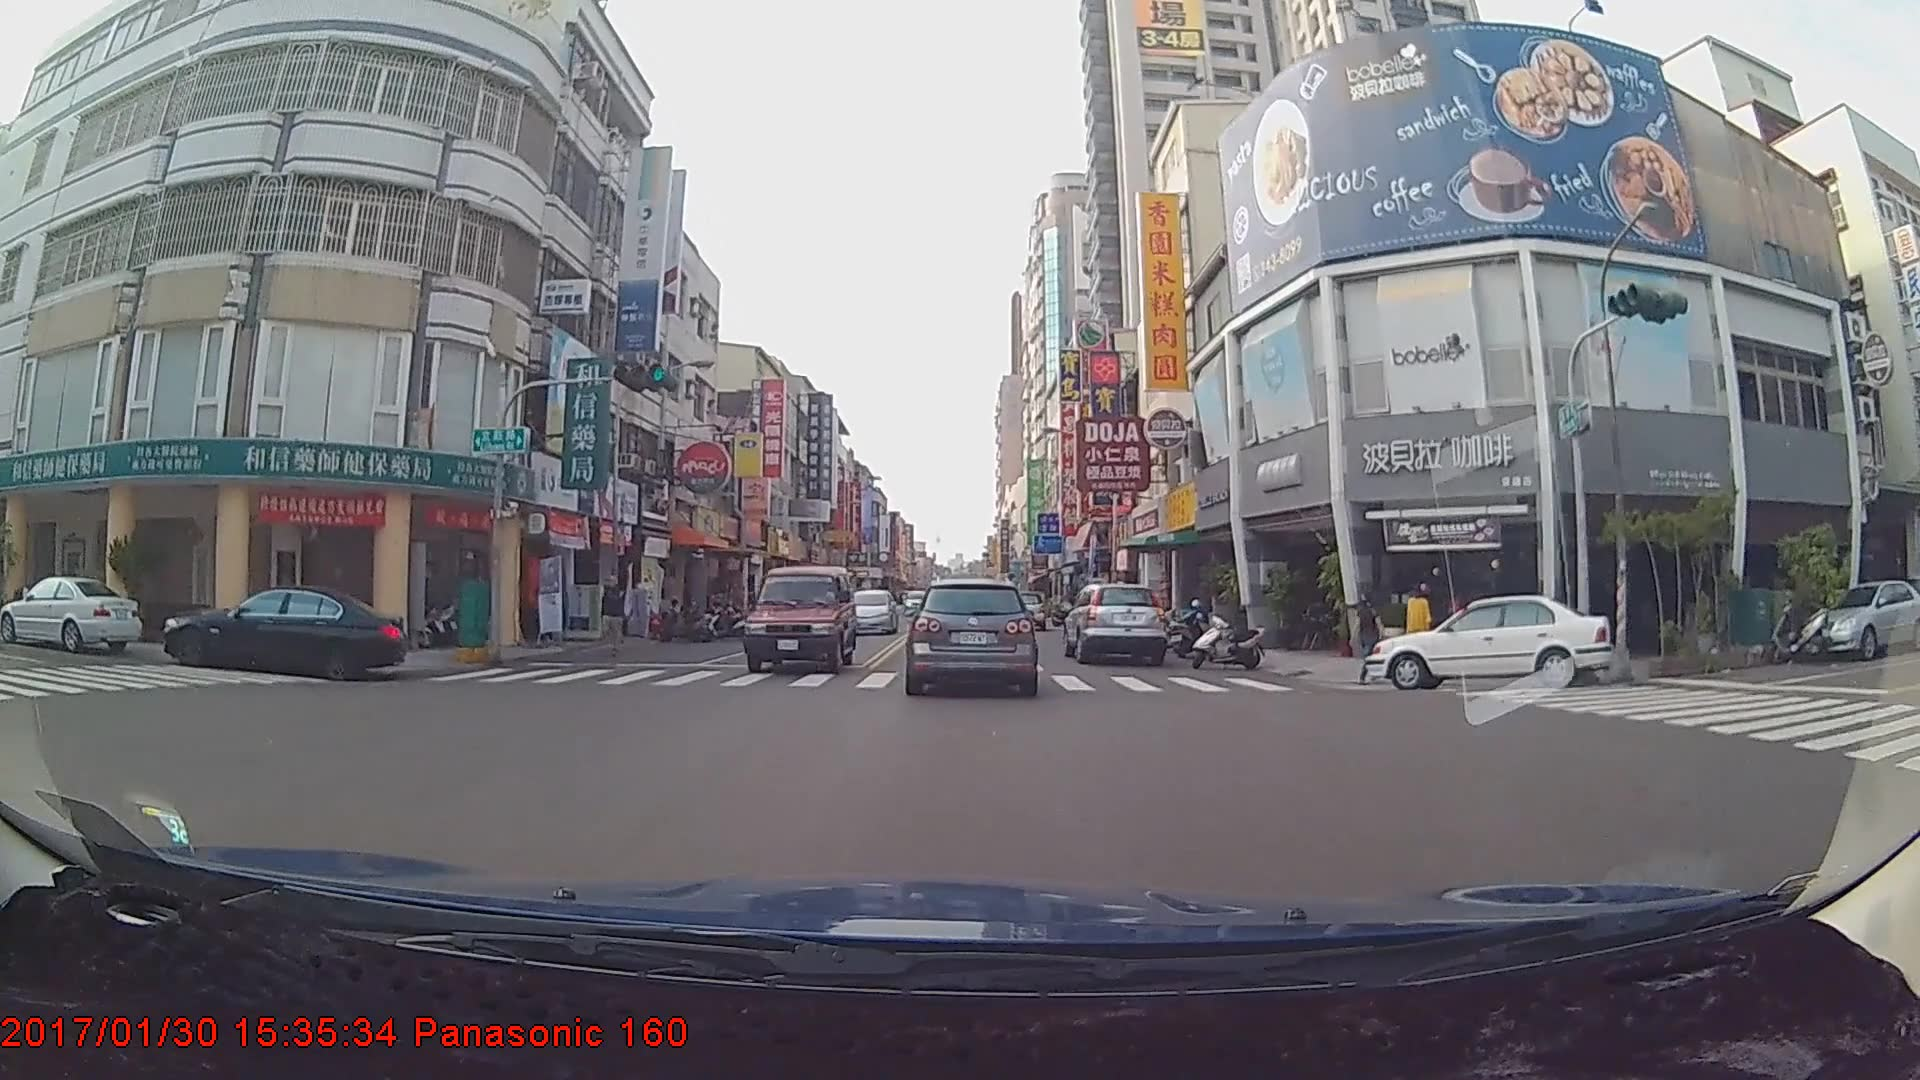pedestrian: (1356, 593, 1389, 688), (1406, 583, 1437, 668), (600, 573, 629, 653)
vehicle: (160, 578, 406, 678), (1362, 593, 1616, 690), (910, 579, 1035, 694), (738, 562, 856, 673), (0, 574, 142, 654), (1800, 579, 1920, 660), (1062, 580, 1169, 666), (842, 587, 898, 633)
